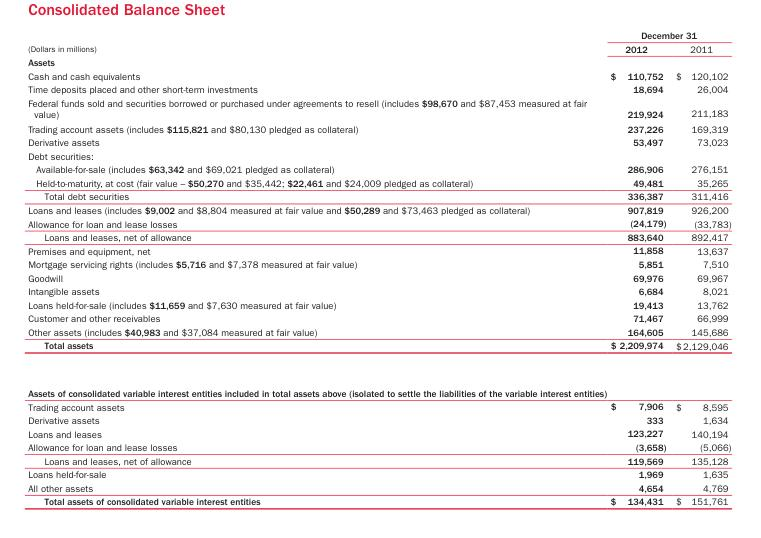table: (27, 29, 730, 506)
table column: (27, 29, 597, 506), (597, 29, 670, 506), (670, 29, 730, 506)
table column header: (27, 29, 730, 55)
table projected row header: (27, 368, 730, 399), (27, 148, 730, 162), (27, 55, 730, 68)
table row: (27, 368, 730, 399), (27, 338, 730, 368), (27, 95, 730, 121), (27, 41, 730, 55), (27, 68, 730, 82), (27, 121, 730, 135), (27, 148, 730, 162), (27, 175, 730, 189), (27, 202, 730, 216), (27, 216, 730, 230), (27, 243, 730, 257), (27, 270, 730, 284), (27, 297, 730, 311), (27, 324, 730, 338), (27, 412, 730, 426), (27, 426, 730, 440), (27, 453, 730, 467), (27, 480, 730, 494), (27, 55, 730, 68), (27, 82, 730, 95), (27, 135, 730, 148), (27, 162, 730, 175), (27, 189, 730, 202), (27, 230, 730, 243), (27, 257, 730, 270), (27, 284, 730, 297), (27, 311, 730, 324), (27, 399, 730, 412), (27, 440, 730, 453), (27, 467, 730, 480), (27, 29, 730, 41), (27, 494, 730, 506)
table spanning cell: (27, 29, 597, 55), (597, 29, 730, 41)
